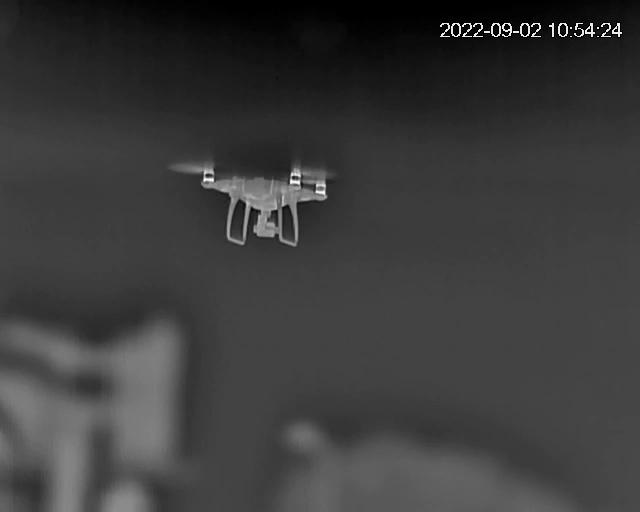DJI-Phantom: (171, 160, 336, 248)
